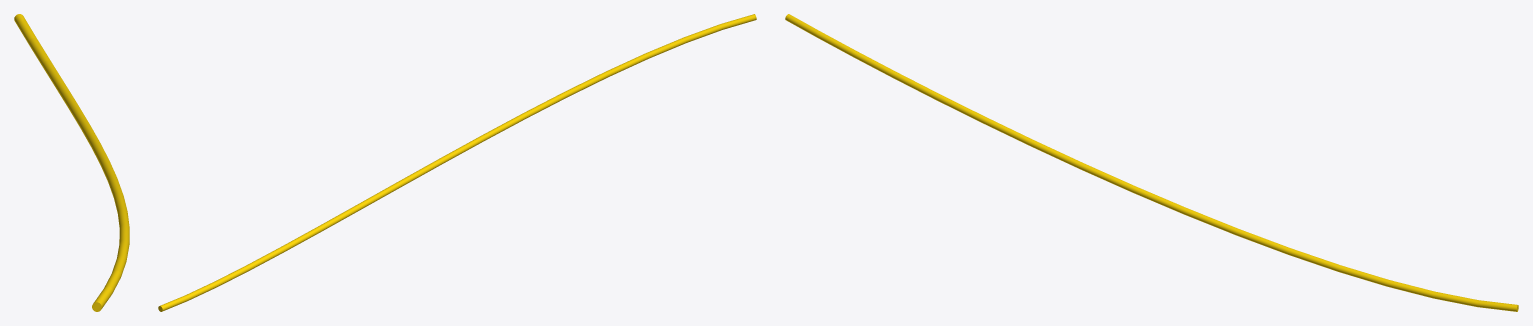
The model's file is Event_420107950_track_60.fbx.
3 views of the same model, side by side, from view 1: azimuth 90°, elevation 25°; view 2: azimuth 210°, elevation 25°; view 3: azimuth 330°, elevation 25° (orthographic). The views are drawn at different scales.
Parts seen in each view (by area): view 1: Model; view 2: Model; view 3: Model.
Part boxes in pixels (x1,y1,x2,y2): Model: (14, 14, 129, 311); Model: (158, 14, 756, 311); Model: (785, 14, 1518, 311).
Size of the model in its own units: 4.57 by 0.9066 by 0.4572.
